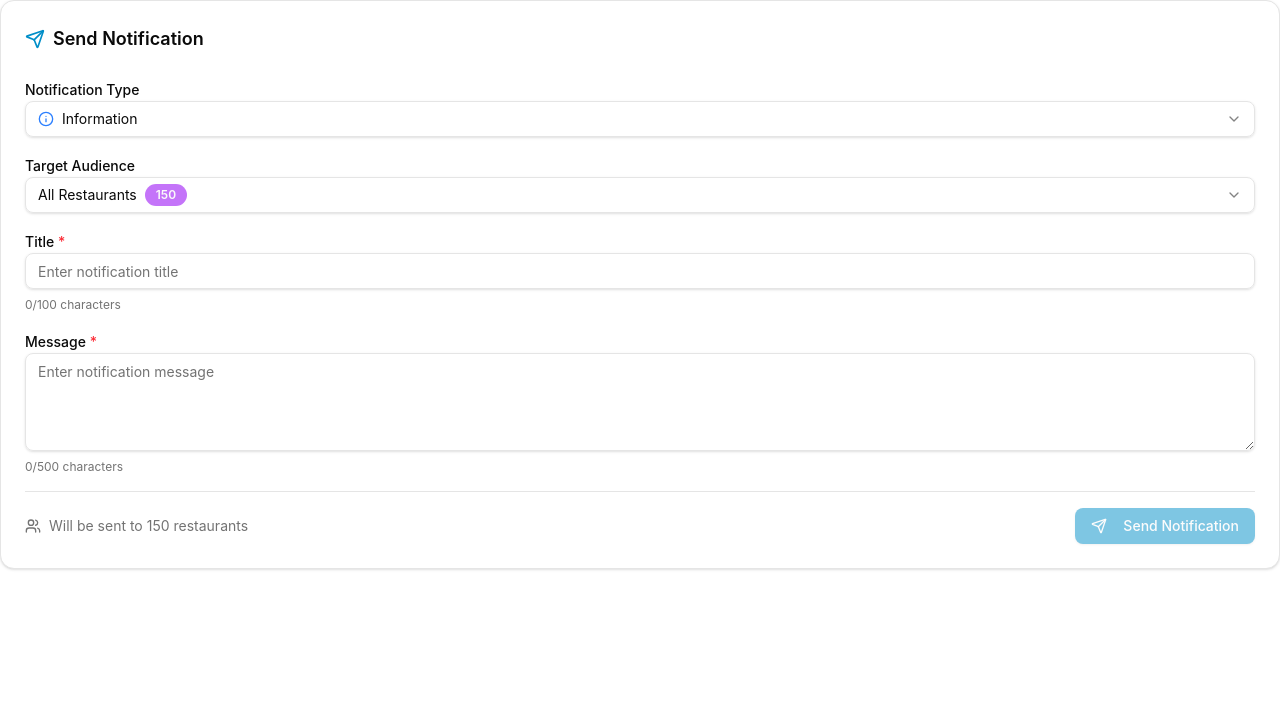
Test: NotificationSender › disables send button when sending
The image size is (1280, 720).
Type "Test Title" into the field labelled "Title *" at (640, 271), box x1=25 y1=253 x2=1255 y2=289
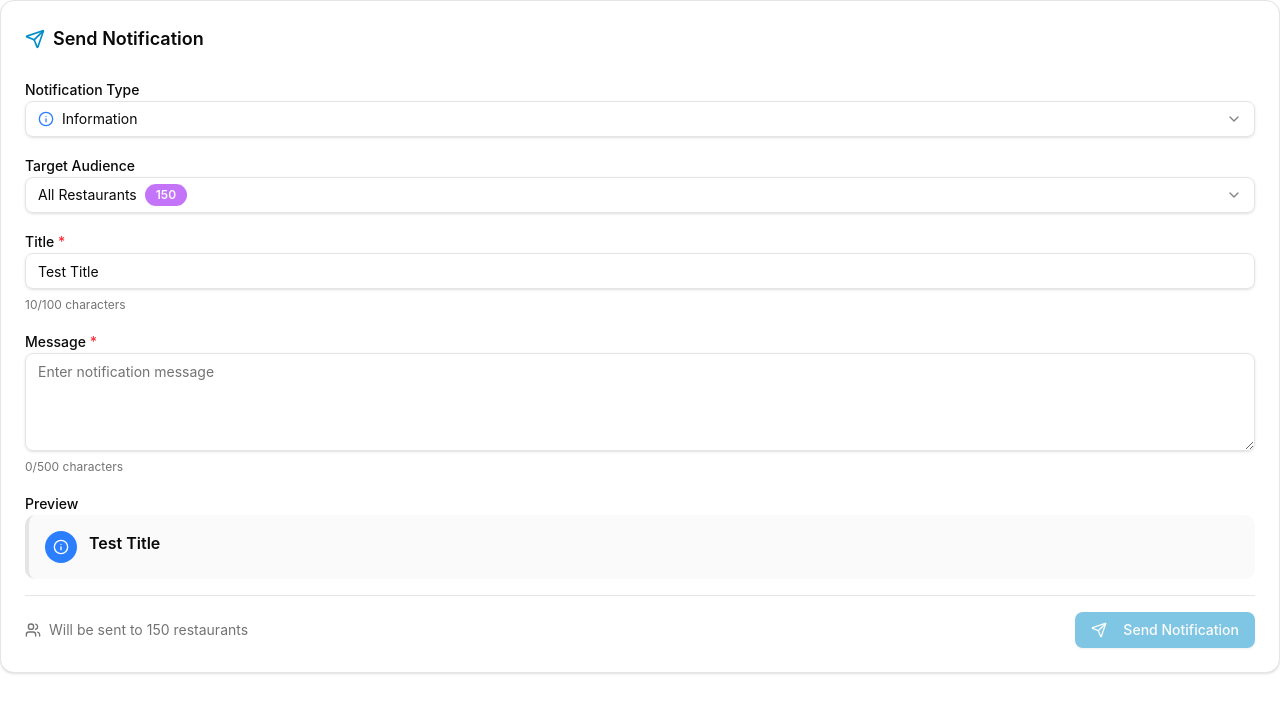
Type "Test Message" into the text box labelled "Message *" at (640, 402), box x1=25 y1=353 x2=1255 y2=451
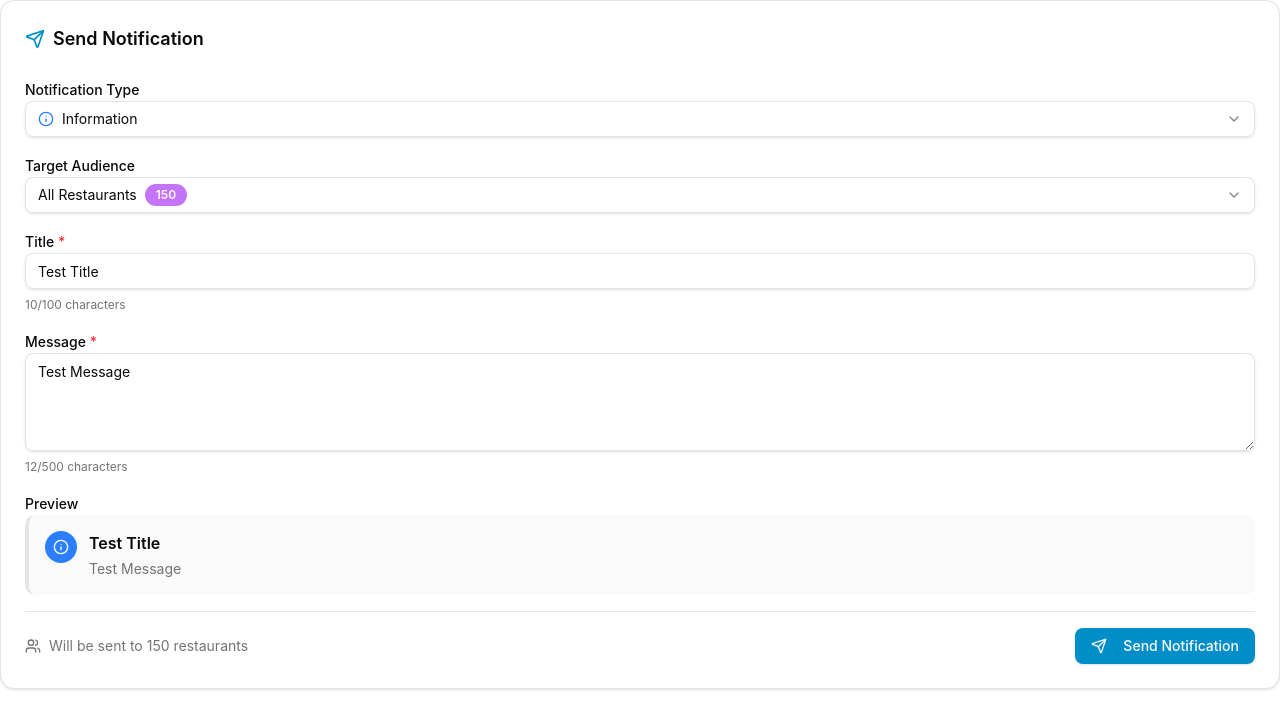
Now the button "Send Notification" is enabled
Click the button "Send Notification" at (1165, 646), box x1=1075 y1=628 x2=1255 y2=664
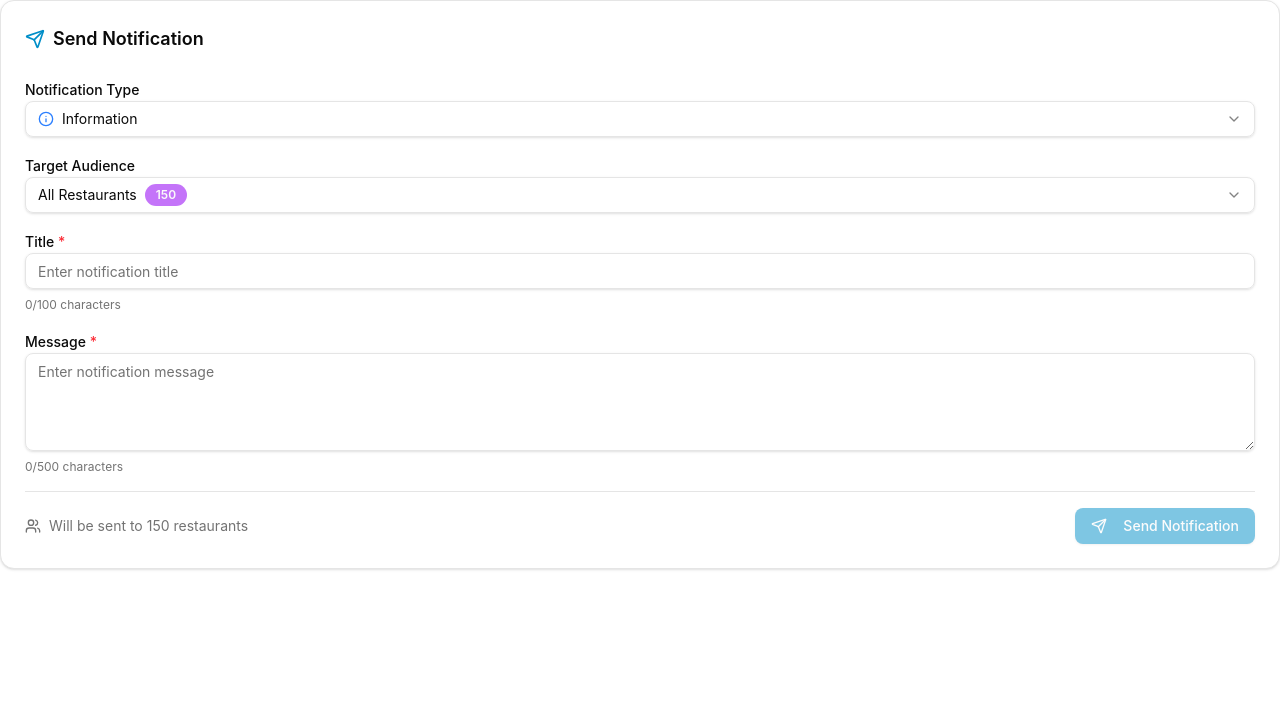
Now the button "Send Notification" is disabled, box x1=1075 y1=508 x2=1255 y2=544
